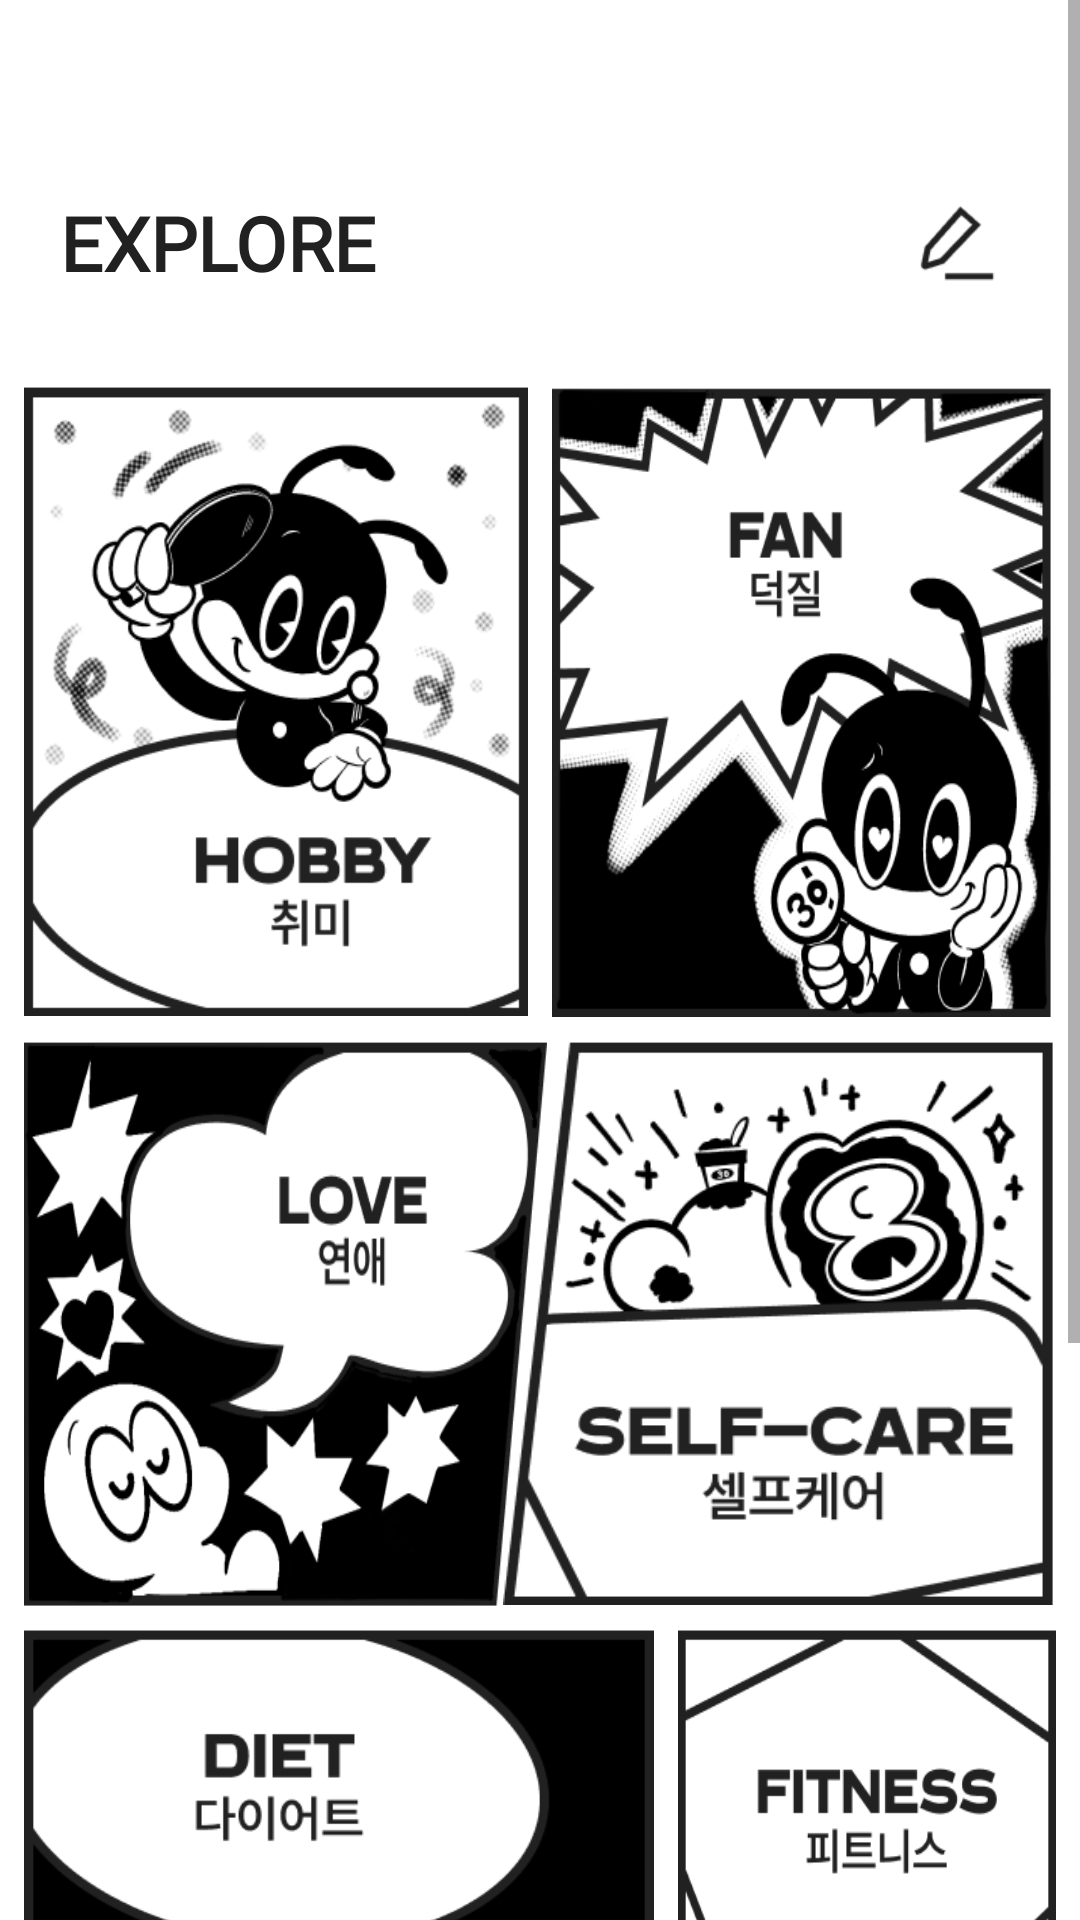

Icon click points for this 1080x1920 phone screenshot, format (x,y):
explore edit: (957,243)
